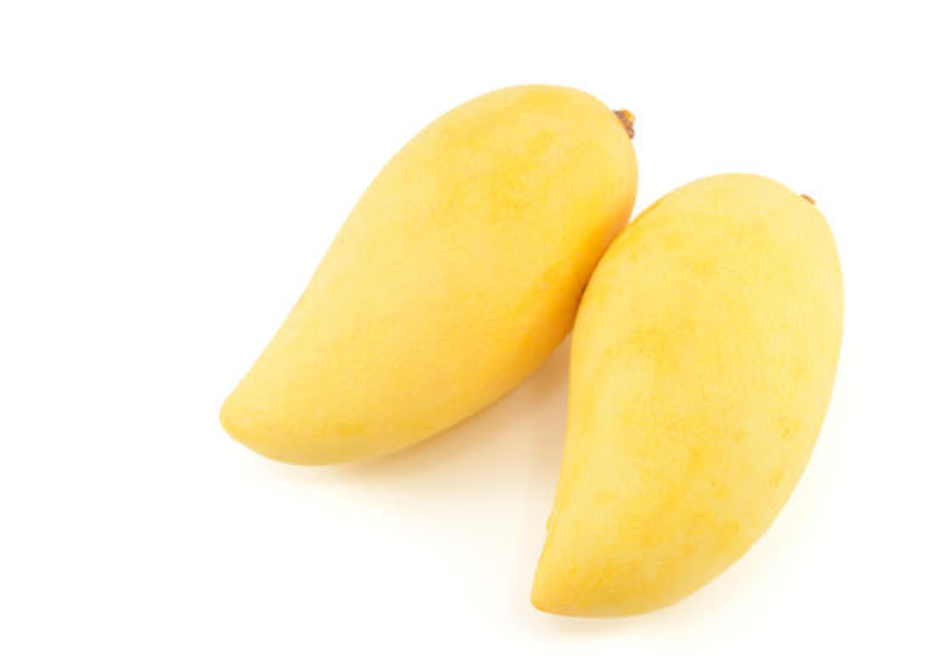mango: (220, 83, 637, 466), (532, 167, 847, 620)
